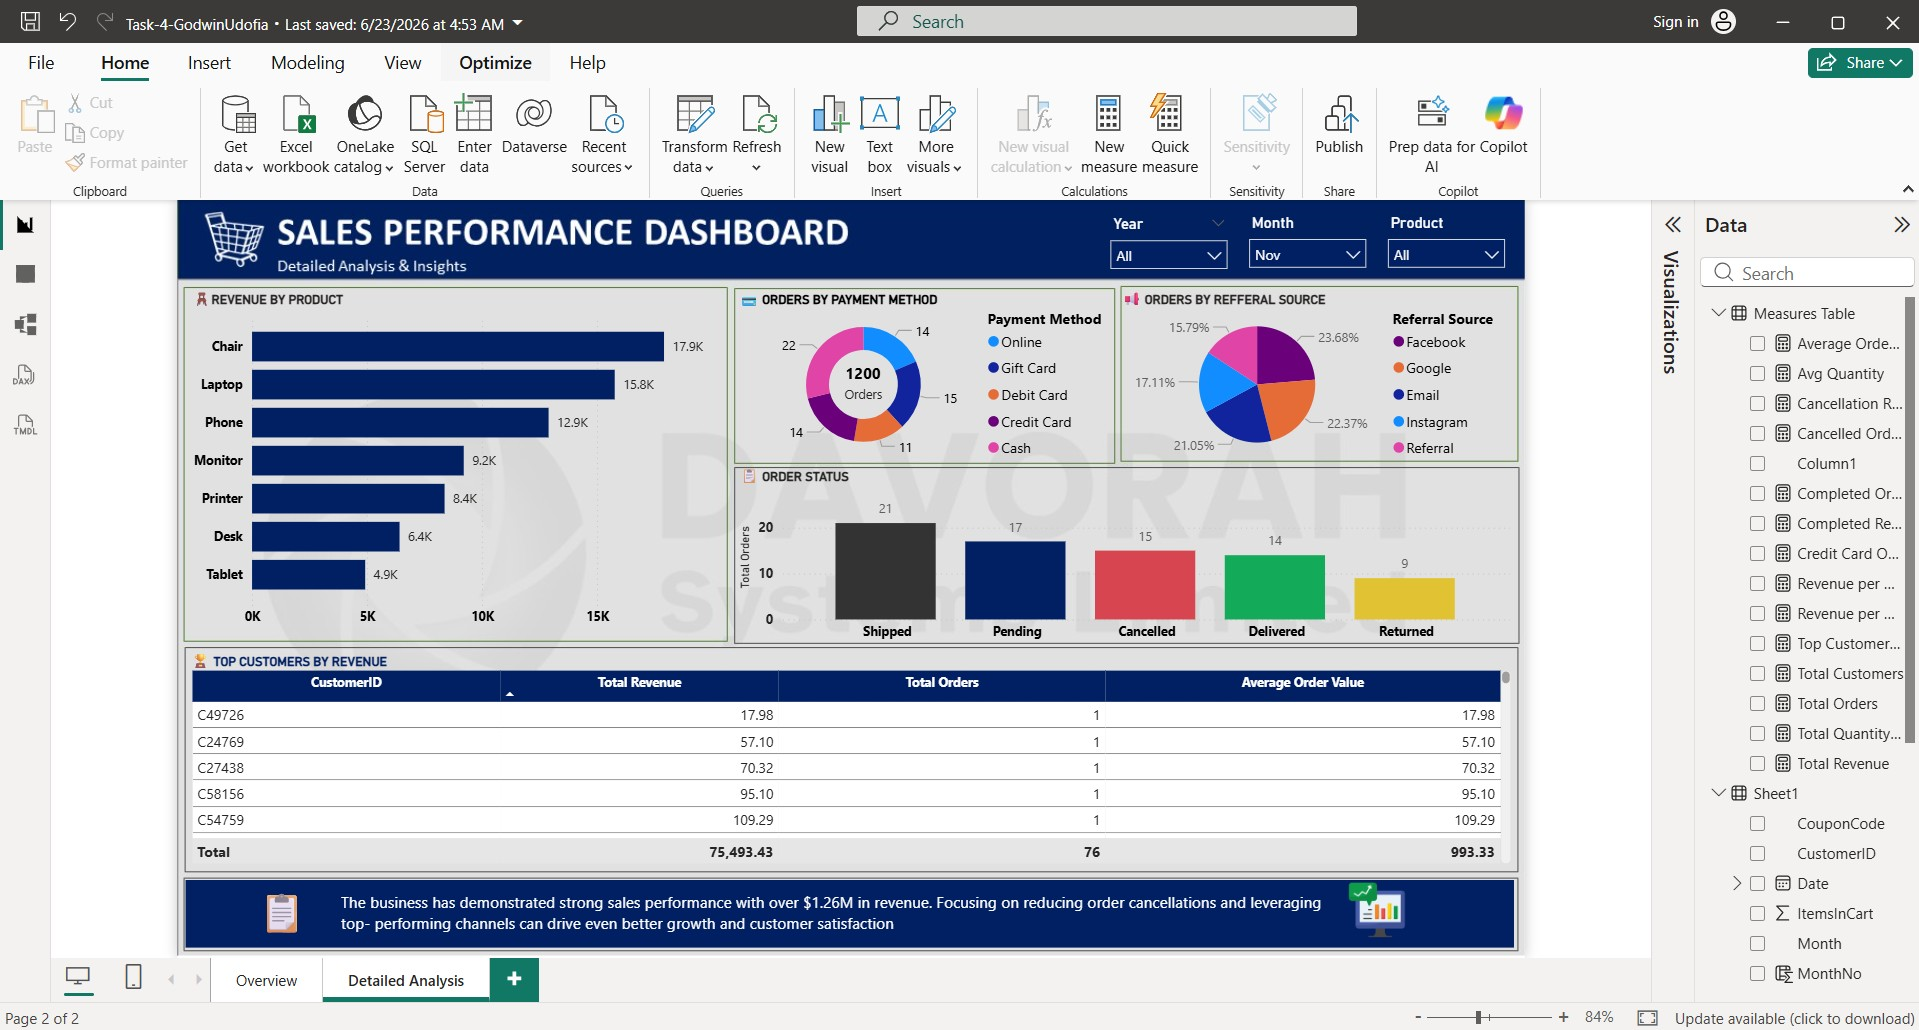

Layout of this report page (visuals, bound fields, positions):
{"tool":"powerbi","page":{"name":"Detailed Analysis","canvas":[1280,720],"ordinal":1},"visuals":[{"type":"donutChart","title":"💳 ORDERS BY PAYMENT METHOD","fields":{"Category":["Sheet1.PaymentMethod"],"Y":["Measures Table.Total Orders"]},"box":[529.6,84.3,363.3,168.6],"z":0},{"type":"pieChart","title":"📢 ORDERS BY REFFERAL SOURCE","fields":{"Category":["Sheet1.ReferralSource"],"Y":["Measures Table.Total Orders"]},"box":[892.9,84.3,377.6,168.6],"z":1000},{"type":"clusteredColumnChart","title":"📋 ORDER STATUS","fields":{"Category":["Sheet1.OrderStatus"],"Y":["Measures Table.Total Orders"]},"box":[529.6,252.9,742.1,175.7],"z":2000},{"type":"clusteredBarChart","title":"🪑REVENUE BY PRODUCT","fields":{"Category":["Sheet1.Product"],"Y":["Measures Table.Total Revenue"]},"box":[9.5,84.3,512.9,330.1],"z":3000},{"type":"textbox","box":[622.2,149.6,59.4,53.4],"z":4000},{"type":"tableEx","title":"🏆 TOP CUSTOMERS BY REVENUE","fields":{"Values":["Sheet1.CustomerID","Measures Table.Total Revenue","Measures Table.Total Orders","Measures Table.Average Order Value"]},"box":[8.3,428.6,1263.3,206.6],"z":5000},{"type":"textbox","box":[140.5,650.6,1059.7,54.2],"z":6000},{"type":"shape","box":[8.6,645.7,1261.8,64.1],"z":7000},{"type":"textbox","box":[150.8,651.9,942.8,53.4],"z":8000},{"type":"slicer","fields":{"Values":["Sheet1.Product"]},"box":[1139.9,8.3,131.8,60.6],"z":9000},{"type":"slicer","fields":{"Values":["Sheet1.Year"]},"box":[876.3,9.5,131.8,60.6],"z":10000},{"type":"slicer","fields":{"Values":["Sheet1.Month"]},"box":[1008.1,8.3,131.8,60.6],"z":11000},{"type":"textbox","box":[68.9,645.9,71.2,64.1],"z":12000},{"type":"image","box":[1112.6,645.9,54.6,57],"z":13000}]}

Visuals, with their boxes on the page's 1280x720 design canvas (x1, y1, x2, y2). These are canvas units, not pixel positions in the 1919x1030 screenshot, which may show the page scaled, cropped or inside an application window:
"💳 ORDERS BY PAYMENT METHOD" donutChart: bbox=[530, 84, 893, 253]
"📢 ORDERS BY REFFERAL SOURCE" pieChart: bbox=[893, 84, 1270, 253]
"📋 ORDER STATUS" clusteredColumnChart: bbox=[530, 253, 1272, 429]
"🪑REVENUE BY PRODUCT" clusteredBarChart: bbox=[10, 84, 522, 414]
textbox: bbox=[622, 150, 682, 203]
"🏆 TOP CUSTOMERS BY REVENUE" tableEx: bbox=[8, 429, 1272, 635]
textbox: bbox=[140, 651, 1200, 705]
shape: bbox=[9, 646, 1270, 710]
textbox: bbox=[151, 652, 1094, 705]
slicer - Sheet1.Product: bbox=[1140, 8, 1272, 69]
slicer - Sheet1.Year: bbox=[876, 10, 1008, 70]
slicer - Sheet1.Month: bbox=[1008, 8, 1140, 69]
textbox: bbox=[69, 646, 140, 710]
image: bbox=[1113, 646, 1167, 703]
